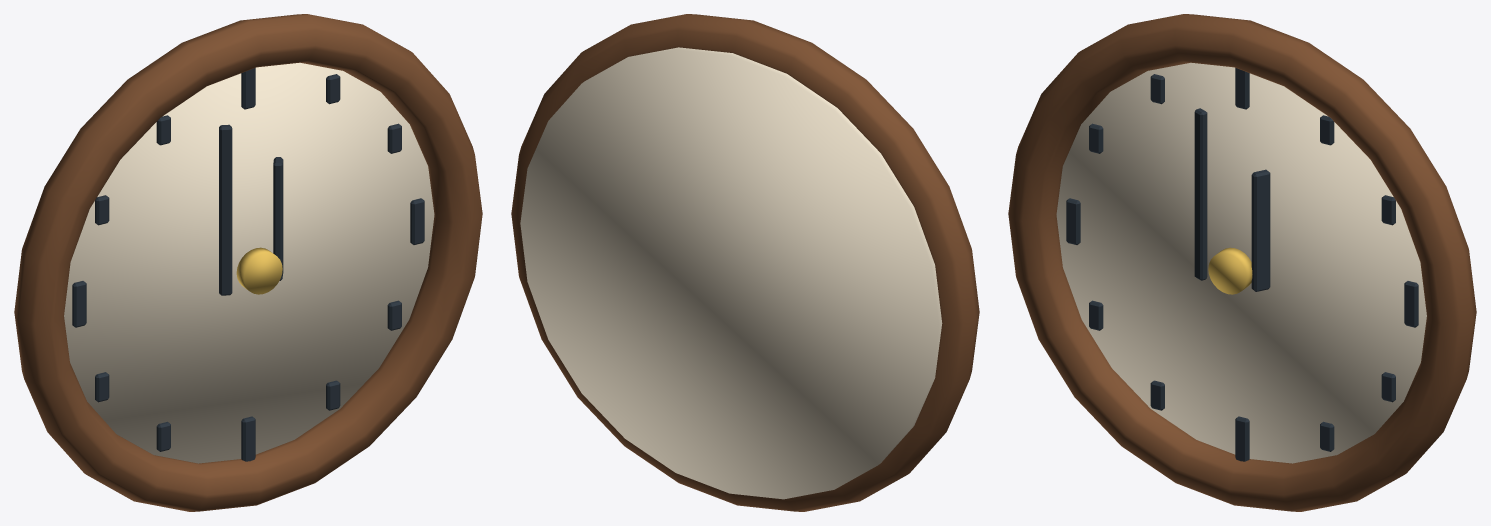
The model's file is wall_clock.glb.
3 renders of one model, left to right at view 1: azimuth 30°, elevation 25°; view 2: azimuth 150°, elevation 25°; view 3: azimuth 330°, elevation 25°, orthographic.
Parts seen in each view (by area): view 1: face, rim, minute-hand, centre-cap, hour-hand, tick.003, tick.009, tick.006, tick; view 2: face, rim; view 3: face, rim, hour-hand, minute-hand, centre-cap, tick.003, tick.009, tick.006, tick.
Boxes of the visible parts, left/top/right/bottom form: face: left=64, top=62, right=434, bottom=463; rim: left=14, top=14, right=482, bottom=511; minute-hand: left=219, top=124, right=232, bottom=295; centre-cap: left=236, top=247, right=282, bottom=294; hour-hand: left=273, top=157, right=283, bottom=280; tick.003: left=410, top=198, right=424, bottom=244; tick.009: left=72, top=281, right=86, bottom=327; tick.006: left=241, top=416, right=255, bottom=461; tick: left=241, top=68, right=255, bottom=109; face: left=520, top=47, right=942, bottom=499; rim: left=511, top=14, right=979, bottom=511; face: left=1056, top=62, right=1426, bottom=463; rim: left=1008, top=14, right=1476, bottom=511; hour-hand: left=1251, top=169, right=1270, bottom=291; minute-hand: left=1194, top=108, right=1207, bottom=280; centre-cap: left=1208, top=247, right=1252, bottom=294; tick.003: left=1404, top=281, right=1418, bottom=327; tick.009: left=1066, top=198, right=1080, bottom=244; tick.006: left=1235, top=416, right=1249, bottom=461; tick: left=1235, top=68, right=1249, bottom=109.
Size of the model in its own units: 0.2871 by 0.2871 by 0.033.
